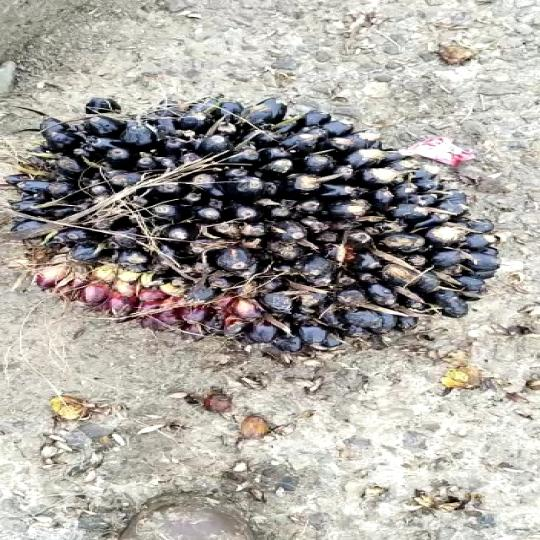mentah: (0, 83, 540, 362)
